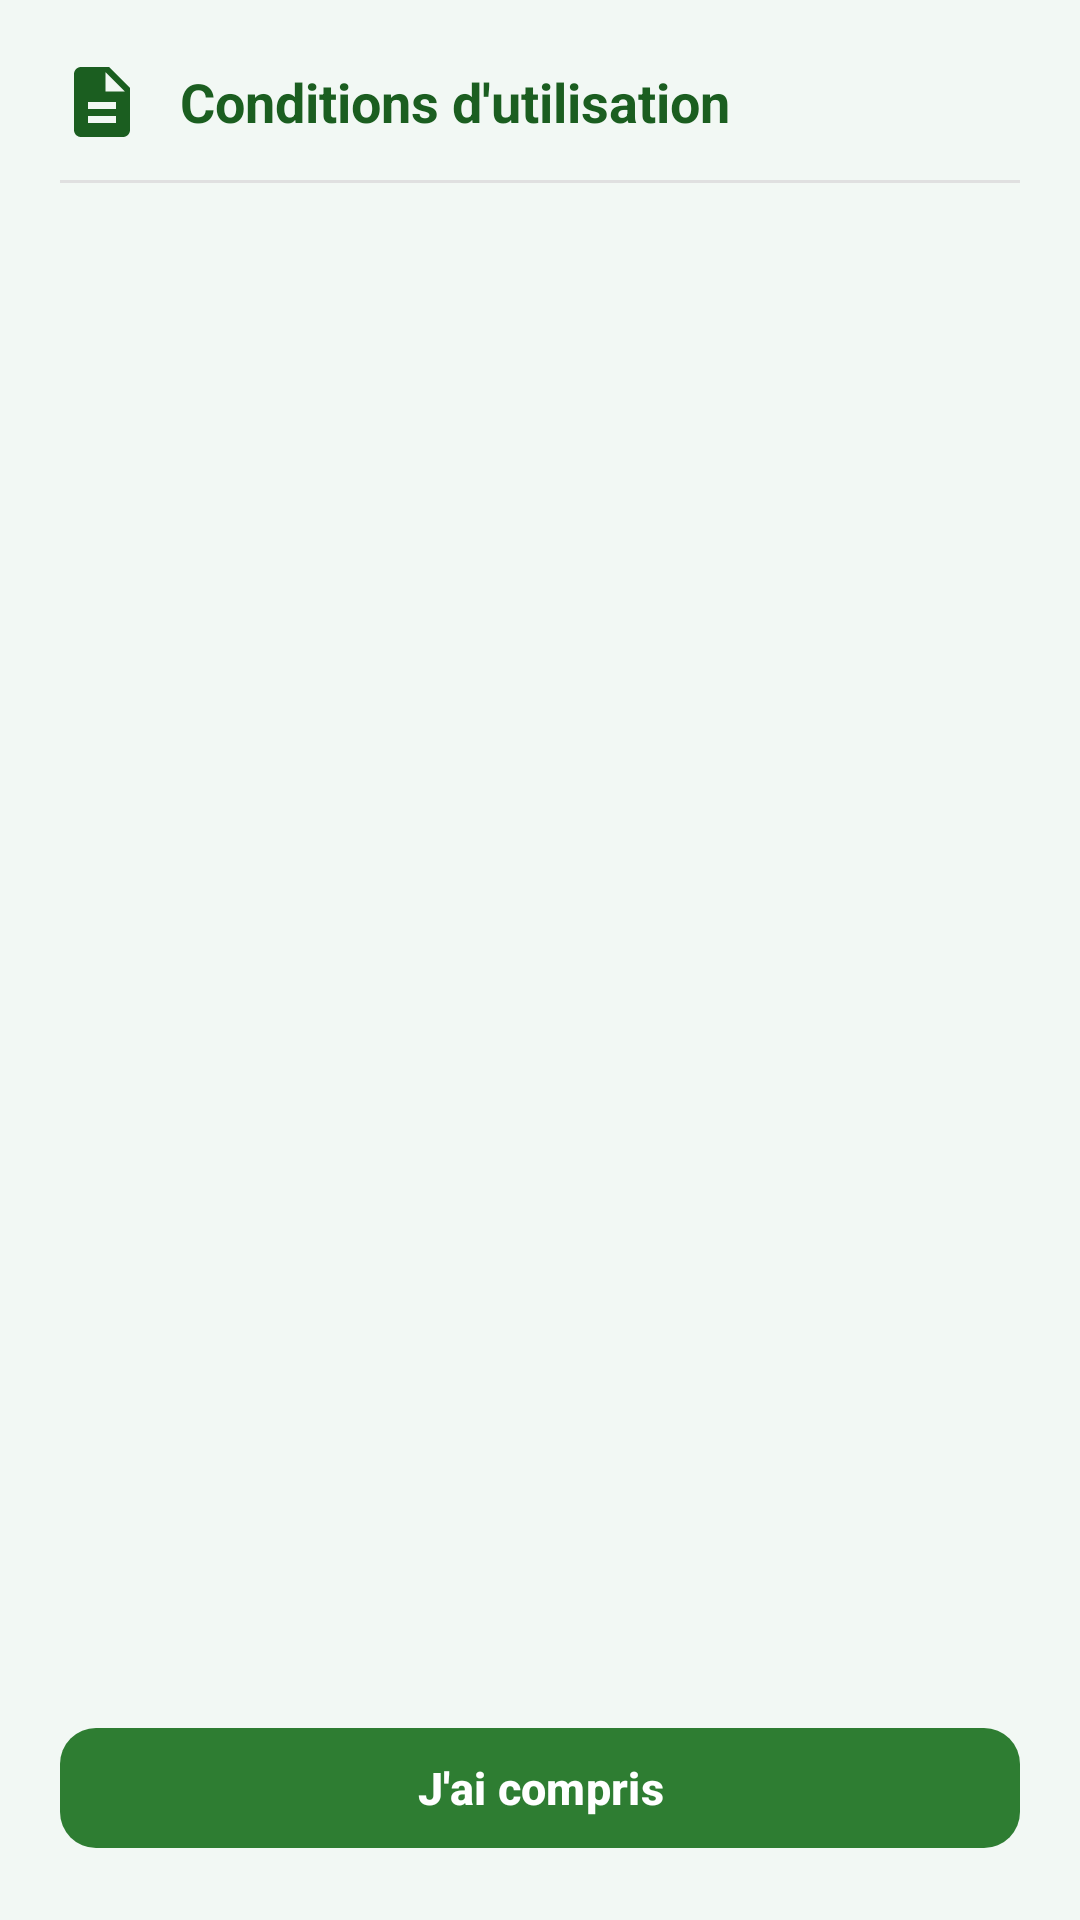

Named icons in this screenshot (1080x1920) and their centers, (x,y):
description: (102,102)
